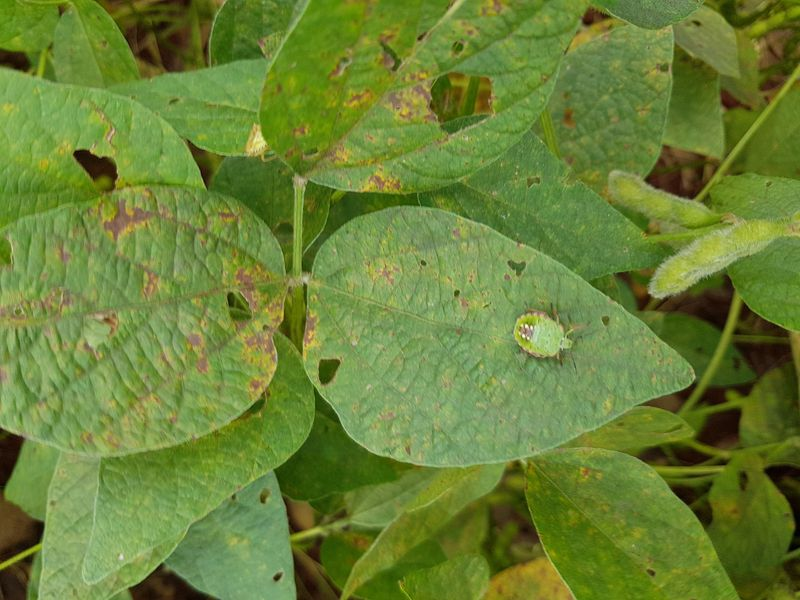Nezara_viridula_ninfa: (499, 298, 588, 374)
